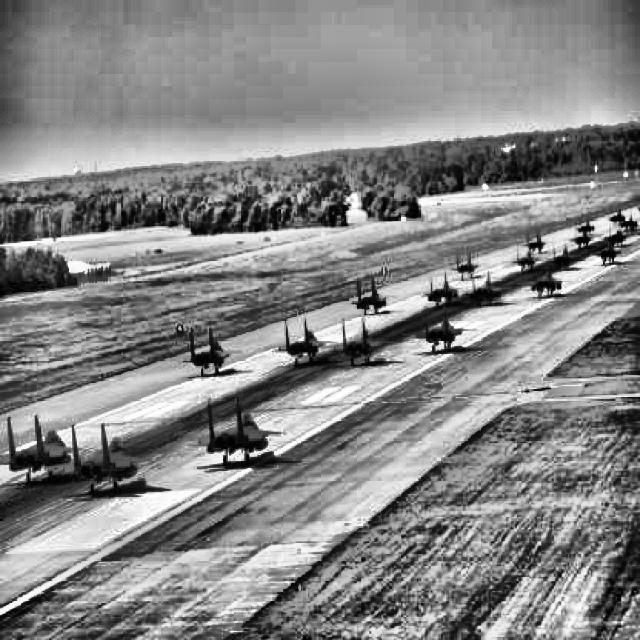F15: (41, 422, 154, 495), (178, 397, 285, 466), (0, 415, 86, 483), (320, 317, 395, 366), (264, 317, 338, 366), (172, 326, 242, 377), (402, 305, 476, 353), (452, 268, 512, 306), (412, 270, 470, 307), (341, 278, 397, 316), (516, 262, 573, 298), (538, 240, 584, 272), (442, 249, 488, 280), (503, 243, 548, 272), (585, 237, 630, 266), (516, 228, 556, 254), (597, 222, 637, 247), (563, 225, 602, 249), (568, 215, 602, 236), (602, 204, 630, 225), (614, 210, 640, 232)
